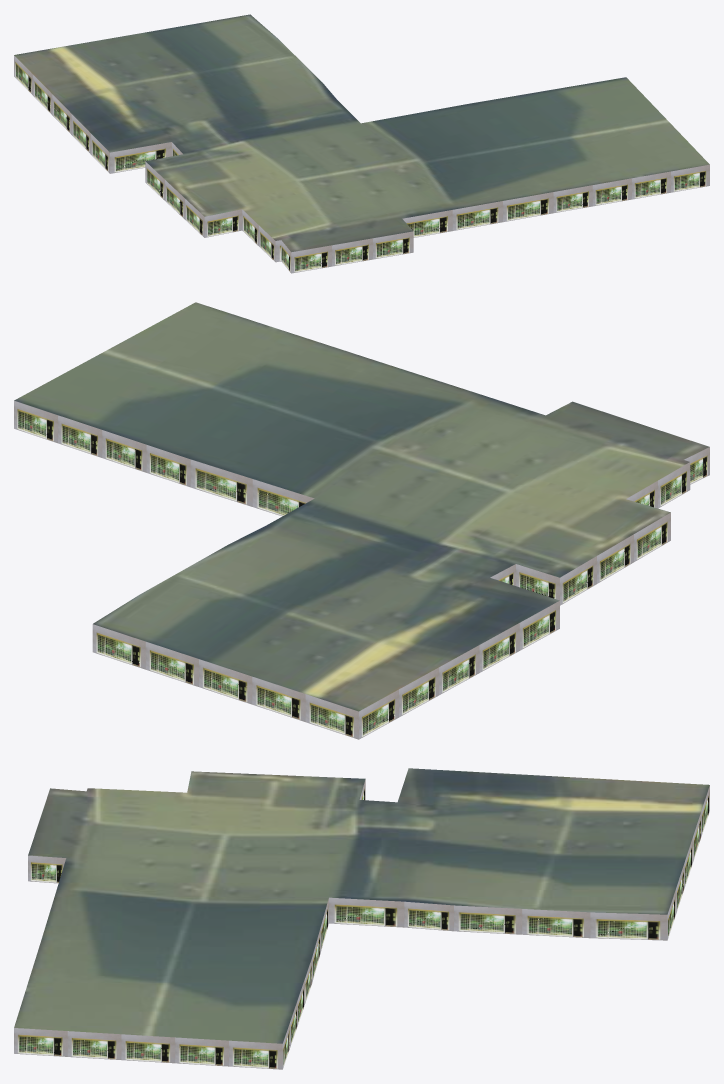
3 renders of one model, top to bottom at view 1: azimuth 30°, elevation 25°; view 2: azimuth 150°, elevation 25°; view 3: azimuth 270°, elevation 25°, orthographic. The views are drawn at different scales.
Visible parts, largest first — view 1: SketchUp (×2); view 2: SketchUp (×2); view 3: SketchUp (×2).
Boxes of the visible parts, <box> form: SketchUp (×2): <box>14,14,709,273</box>; SketchUp (×2): <box>14,302,709,739</box>; SketchUp (×2): <box>14,768,709,1069</box>.
Size of what is drawn, in the model's own units: 2966 by 3166 by 130.
Materials: 2 (2 with a texture image).
